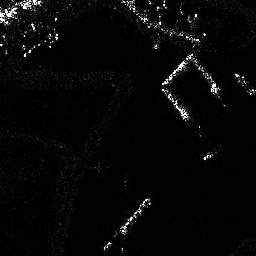ship: (119, 195, 151, 235), (233, 70, 256, 97)
